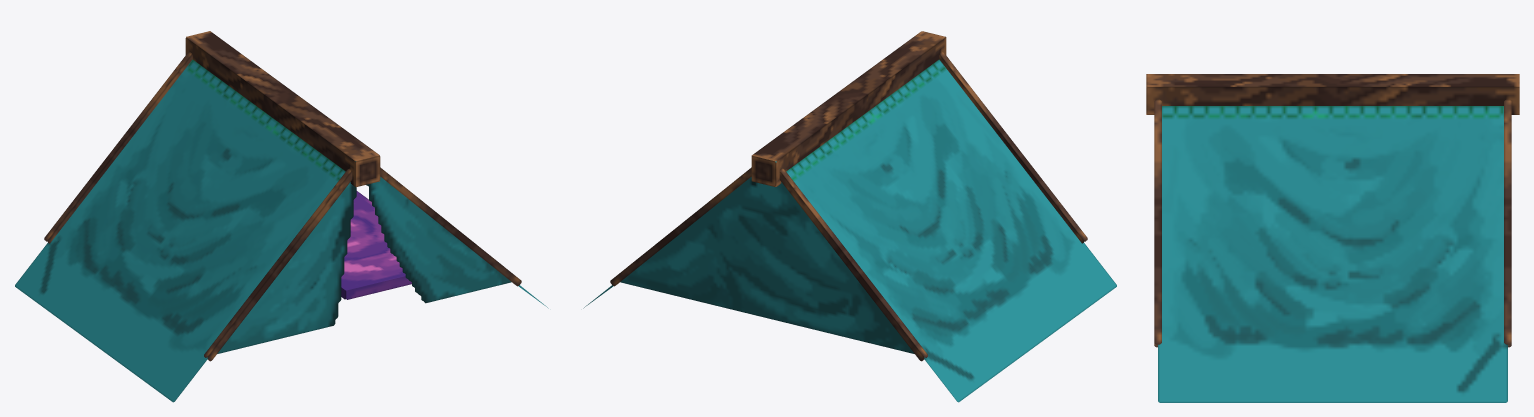
File: Tent.fbx
The picture shows the model from 3 angles, left to right: view 1: azimuth 30°, elevation 25°; view 2: azimuth 150°, elevation 25°; view 3: azimuth 270°, elevation 25°; orthographic projection. The views are drawn at different scales.
Visible parts, largest first — view 1: cube_1, cube_6, cube, cube_8, cube_4, cube_5, cube_2; view 2: cube_1, cube_7, cube, cube_5, cube_4, cube_3; view 3: cube_1, cube, cube_2, cube_3.
Boxes of the visible parts, x1=… form: cube_1: x1=15, y1=59, x2=548, y2=402; cube_6: x1=217, y1=177, x2=511, y2=353; cube: x1=185, y1=31, x2=380, y2=187; cube_8: x1=341, y1=191, x2=411, y2=299; cube_4: x1=204, y1=168, x2=352, y2=361; cube_5: x1=44, y1=52, x2=192, y2=243; cube_2: x1=380, y1=167, x2=521, y2=286; cube_1: x1=583, y1=59, x2=1116, y2=402; cube_7: x1=620, y1=177, x2=914, y2=353; cube: x1=751, y1=31, x2=946, y2=186; cube_5: x1=779, y1=168, x2=927, y2=361; cube_4: x1=939, y1=52, x2=1087, y2=243; cube_3: x1=610, y1=167, x2=751, y2=286; cube_1: x1=1158, y1=106, x2=1507, y2=402; cube: x1=1146, y1=74, x2=1519, y2=114; cube_2: x1=1154, y1=99, x2=1161, y2=347; cube_3: x1=1504, y1=99, x2=1511, y2=347.
Bounding box in the file's own units: 769 × 393 × 600.
